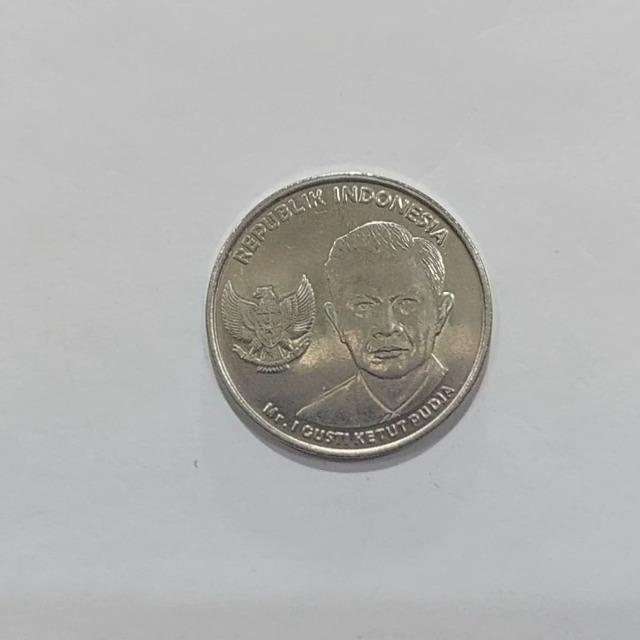Rp100: (205, 170, 493, 463), (287, 217, 458, 433)
